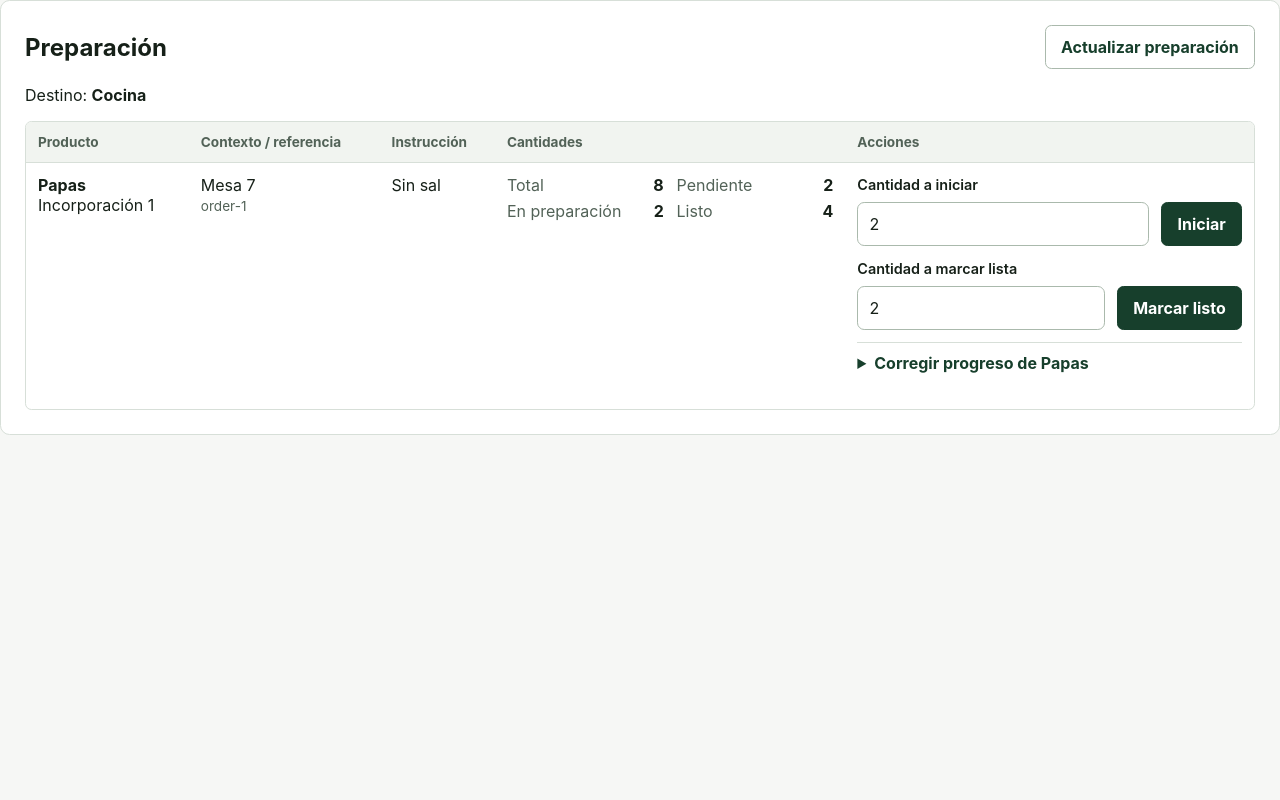
Test: Preparation progress correction › offers Correct Start only with InPreparation and enforces that boundary
Expected: the text "Papas" is shown, [38,175,86,195]
Click the heading "Corregir progreso de Papas".
click(982, 363)  # box [874,353,1089,373]
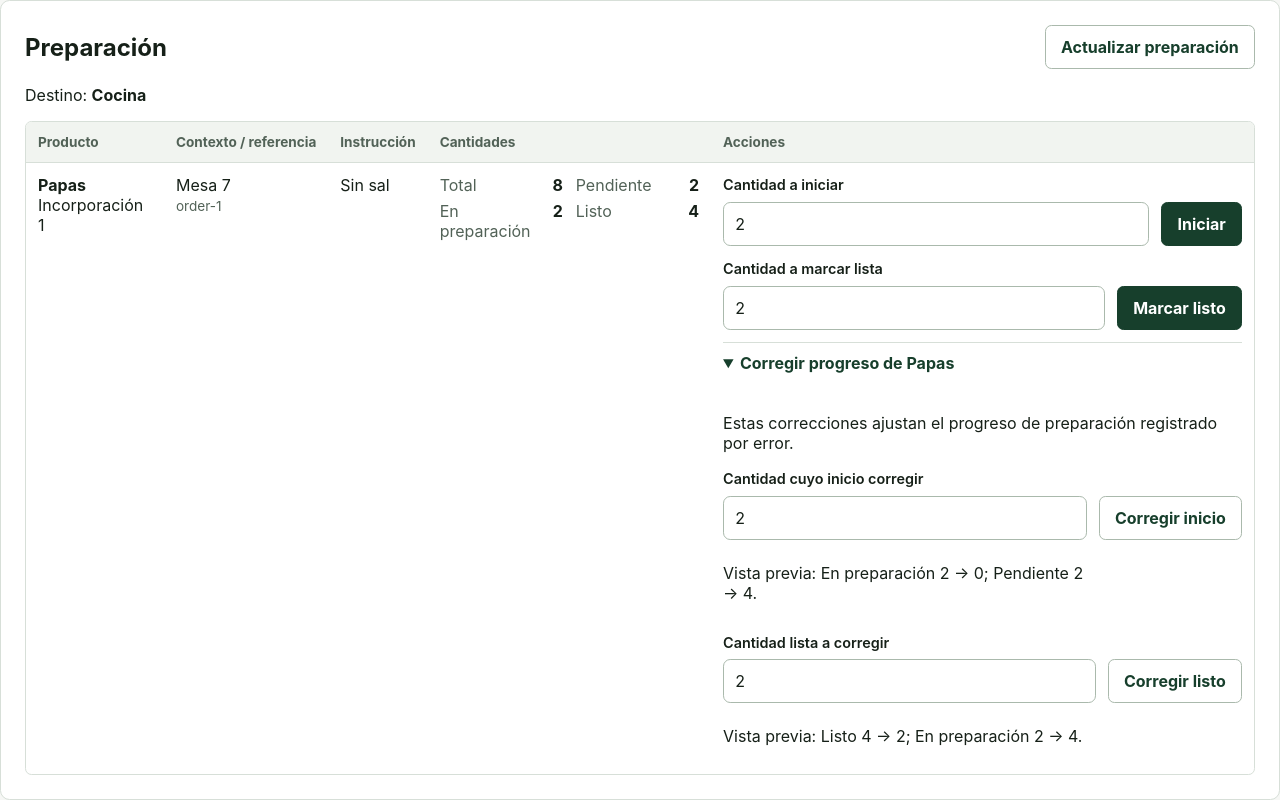
Replace the text in the number field labelled "Cantidad cuyo inicio corregir" with "3" at (905, 518), box [723,496,1087,540]
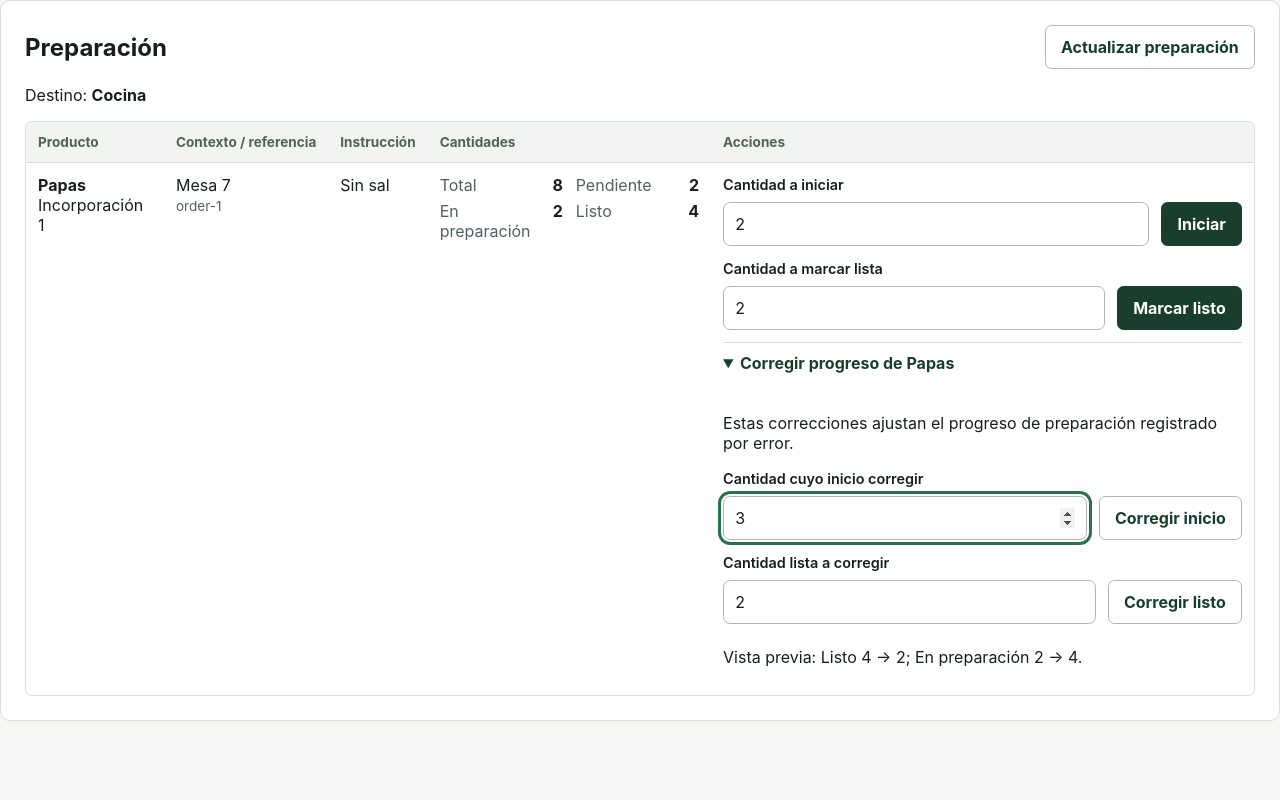
Click the button "Corregir inicio".
click(1170, 518)  # box [1099,496,1242,540]
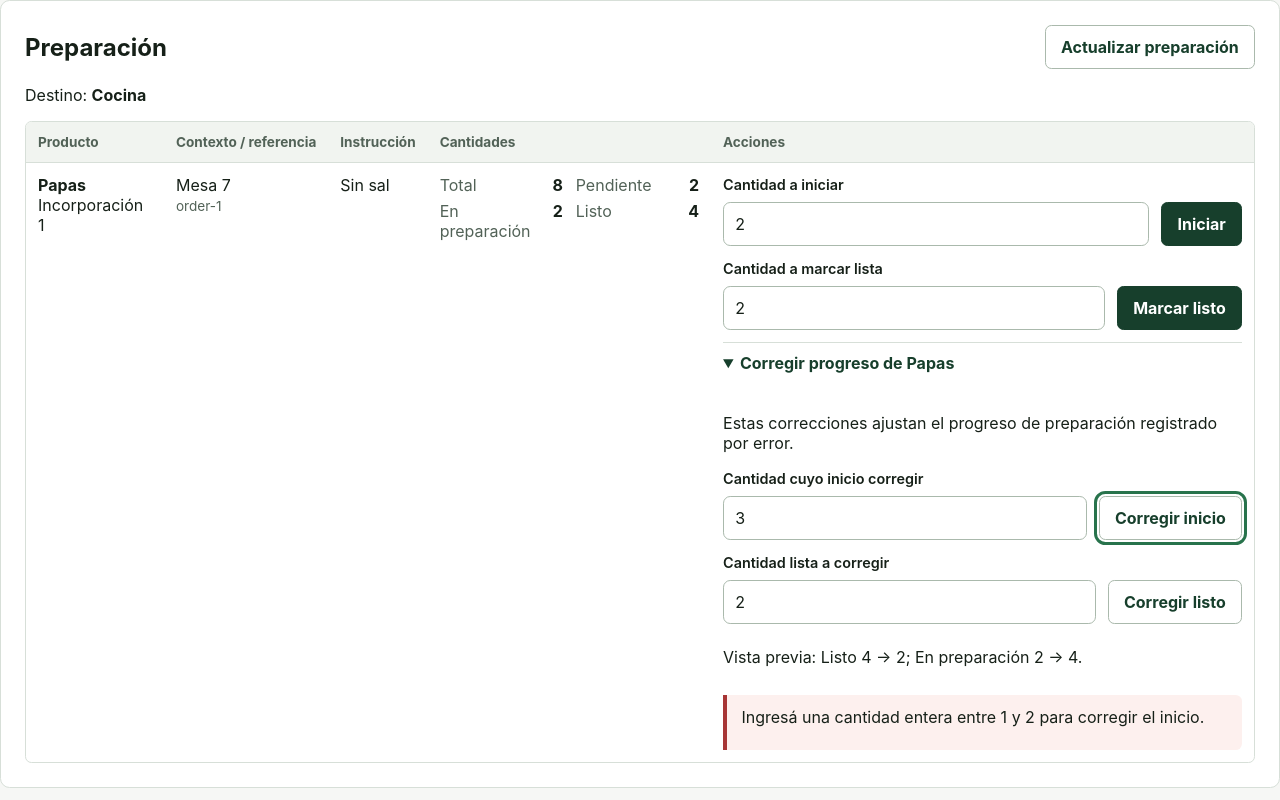
Expected: the message reads "Ingresá una cantidad entera entre 1 y 2 para corregir el inicio.", [741,707,1204,727]
